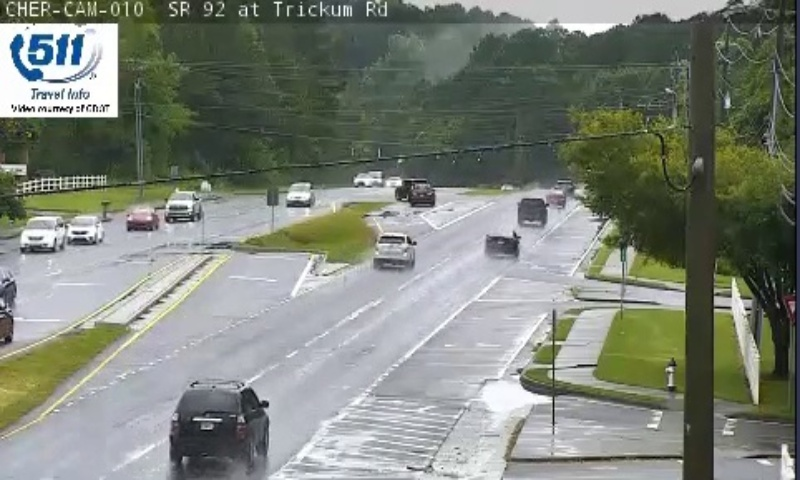car: (169, 380, 268, 449), (374, 232, 415, 264), (485, 229, 520, 255), (517, 197, 548, 226)
